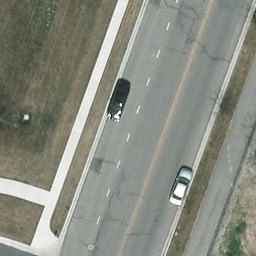car: (105, 79, 133, 123), (169, 167, 194, 208)
